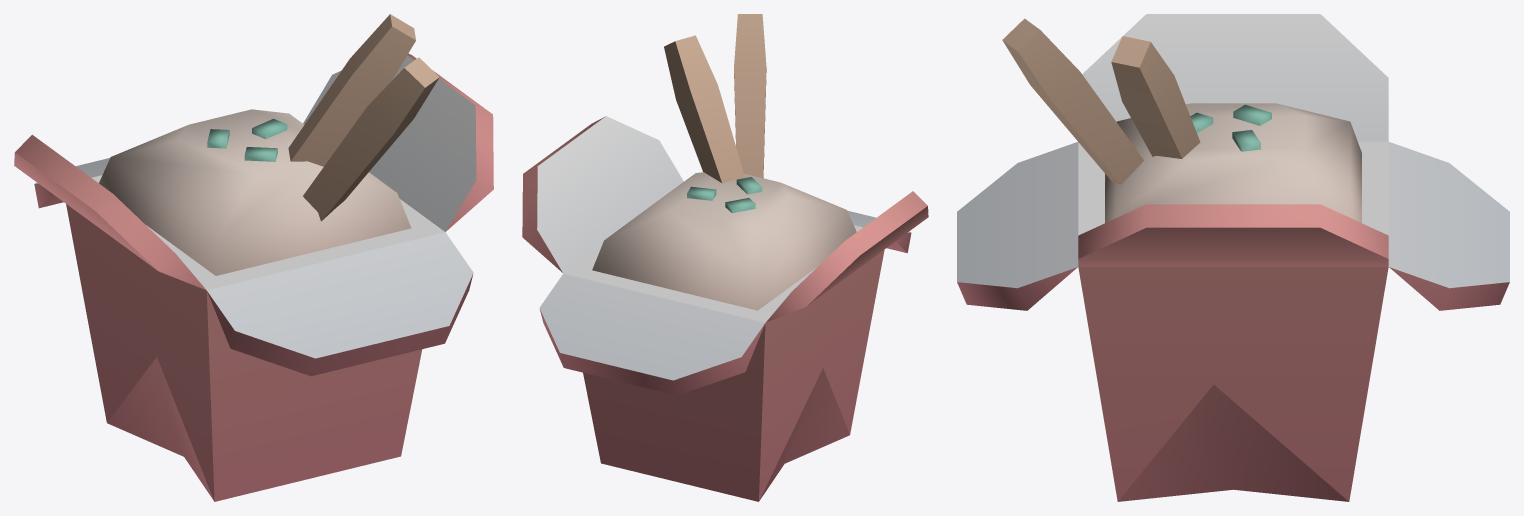
Rendered from chinese.glb.
3 renders of one model, left to right at view 1: azimuth 30°, elevation 25°; view 2: azimuth 150°, elevation 25°; view 3: azimuth 270°, elevation 25°, orthographic. The views are drawn at different scales.
Parts seen in each view (by area): view 1: chinese; view 2: chinese; view 3: chinese.
Boxes of the visible parts, x1,y1,x2,y2 form: chinese: (14,14,493,501); chinese: (522,14,928,501); chinese: (957,14,1509,501).
Size of the model in its own units: 0.3681 by 0.3808 by 0.4126.
